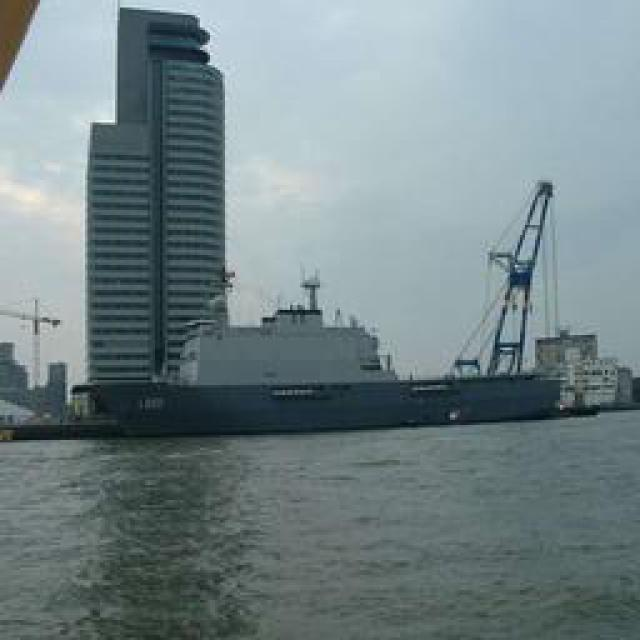Ship: (57, 296, 577, 435)
